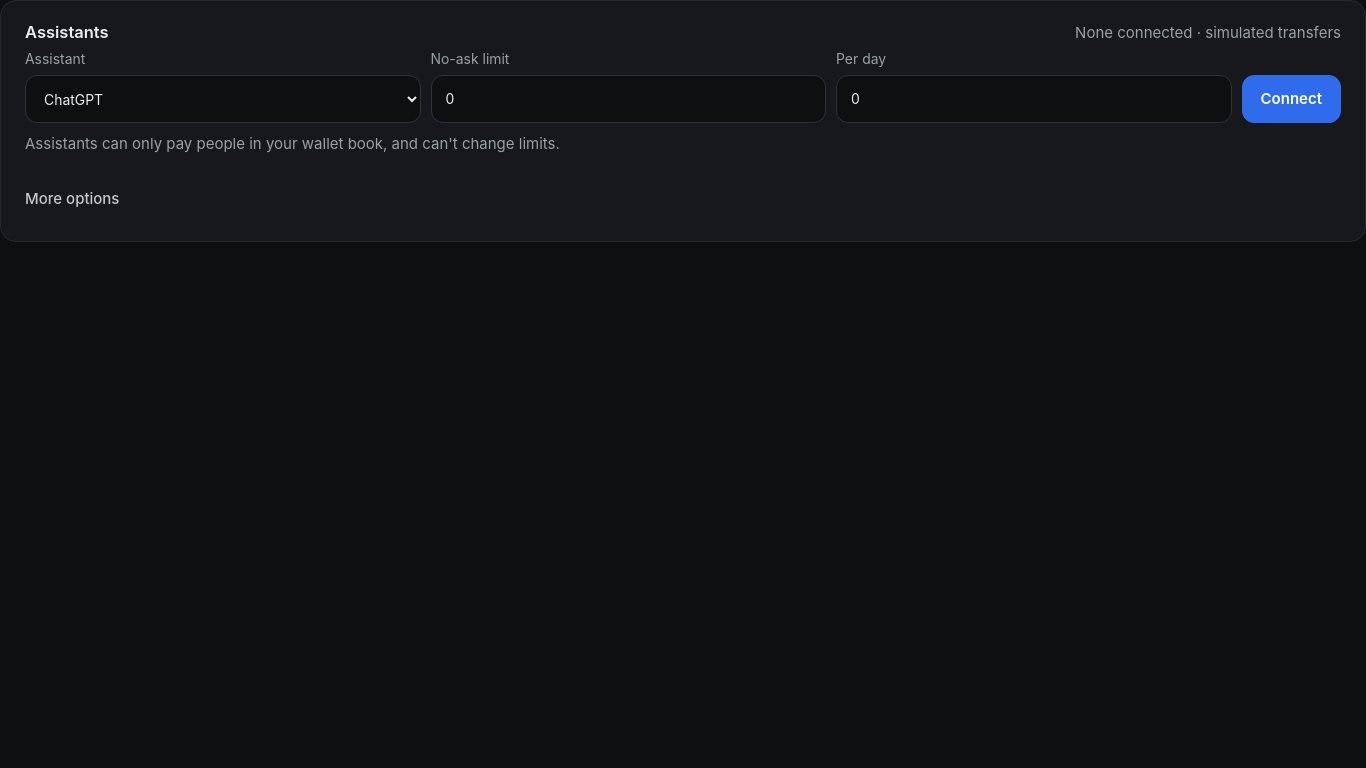
it: ConnectorsPanel › shows the address and the key separately for a key-type connector
Expected: the text "None connected · simulated transfers" is shown, [1075,22,1341,44]
Select "Another assistant" in the dropdown labelled "Assistant" at (223, 99), box [25,75,420,123]
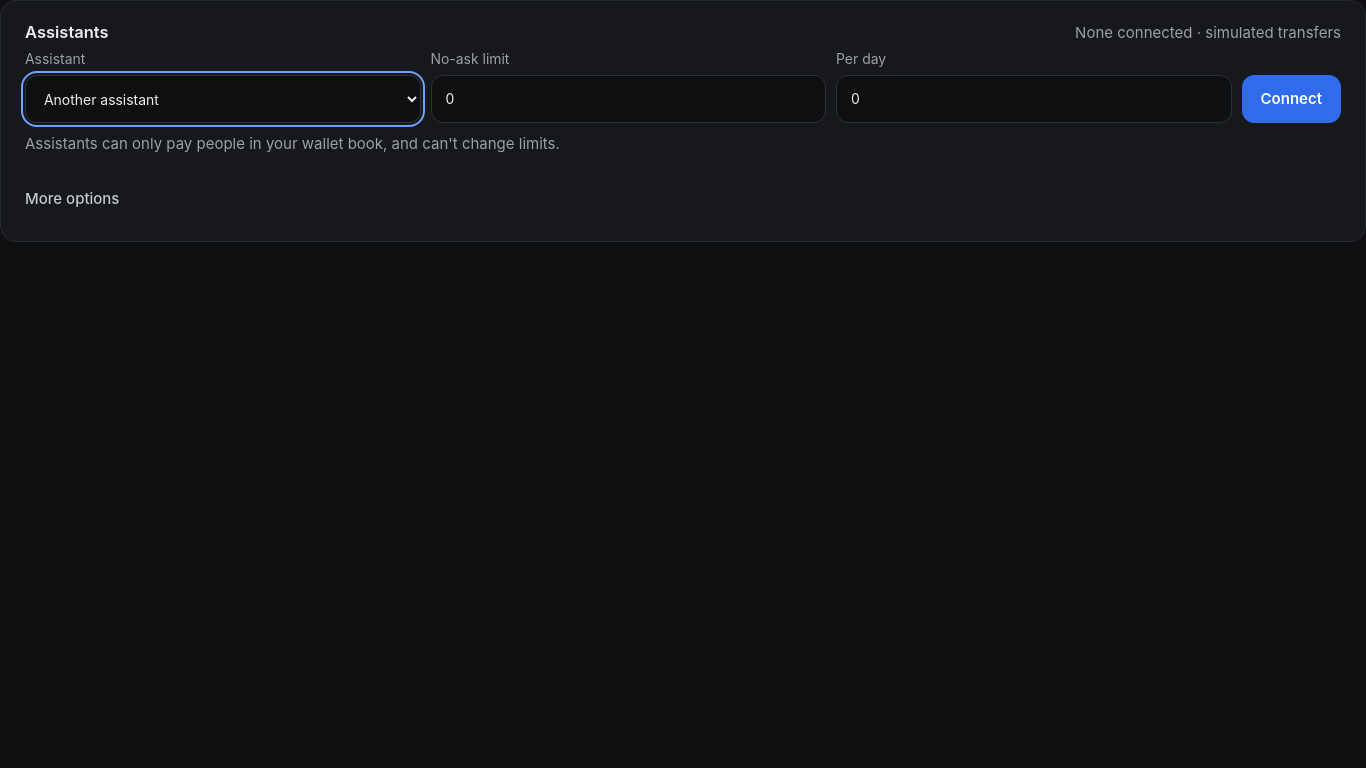
Click the button "Connect" at (1291, 99), box [1242,75,1341,123]
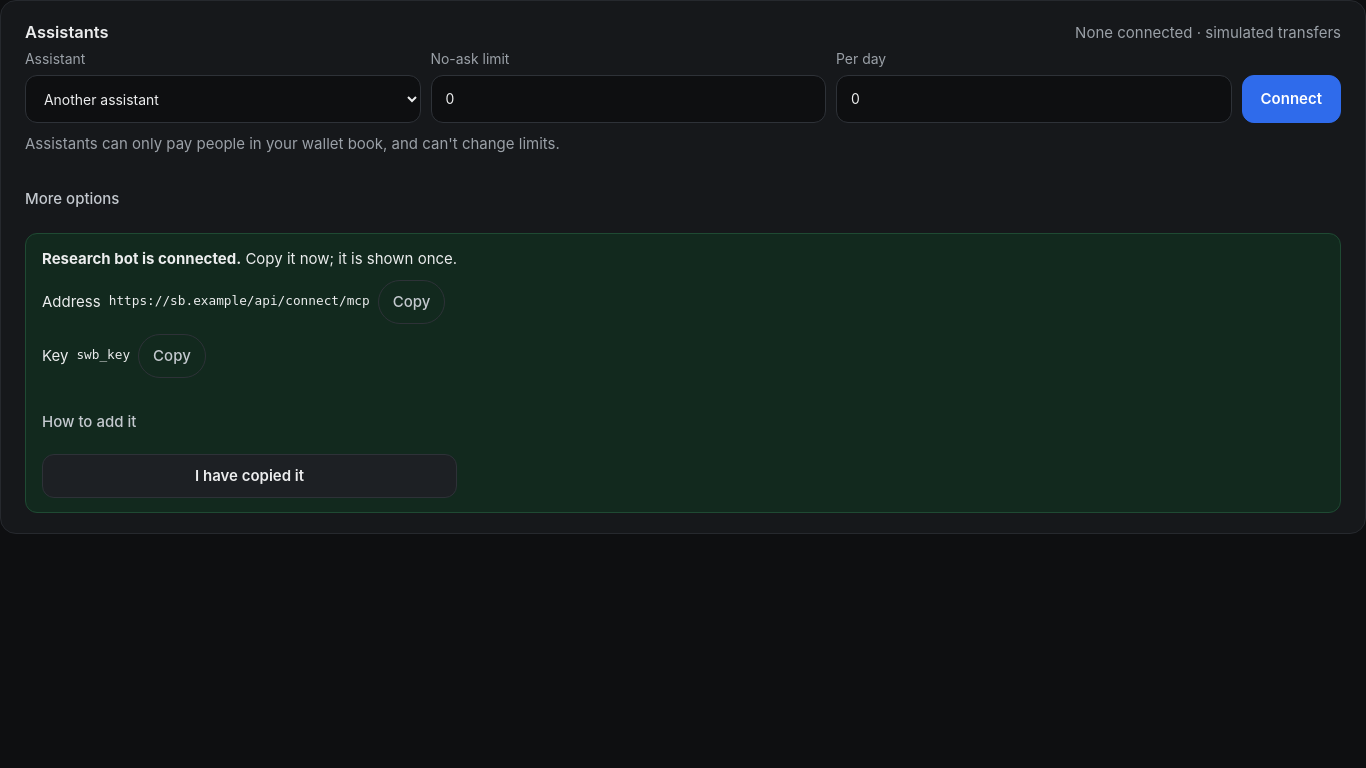
Result: the text "Research bot is connected." is shown at [42,249,241,268]
Result: the elements with test id "connector-secret" read "https://sb.example/api/connect/mcp", "swb_key", in this order at [109,292,370,311]; [76,346,130,365]
